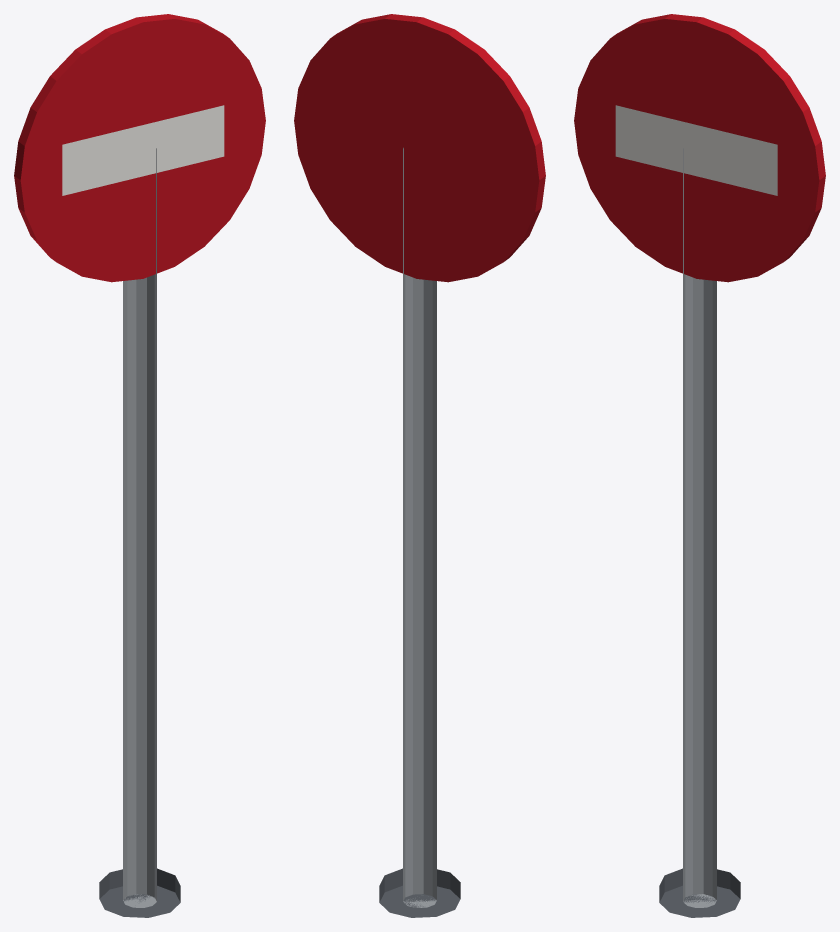
File: sign-noentry.glb
3 views of the same model, side by side, from view 1: azimuth 30°, elevation 25°; view 2: azimuth 150°, elevation 25°; view 3: azimuth 330°, elevation 25° (orthographic).
Parts seen in each view (by area): view 1: sign-noentry; view 2: sign-noentry; view 3: sign-noentry.
Part boxes in pixels (x1,y1,x2,y2): sign-noentry: (14, 14, 265, 917); sign-noentry: (294, 14, 545, 917); sign-noentry: (574, 14, 825, 917).
Bounding box in the file's own units: 0.75 × 2.58 × 0.2054.
